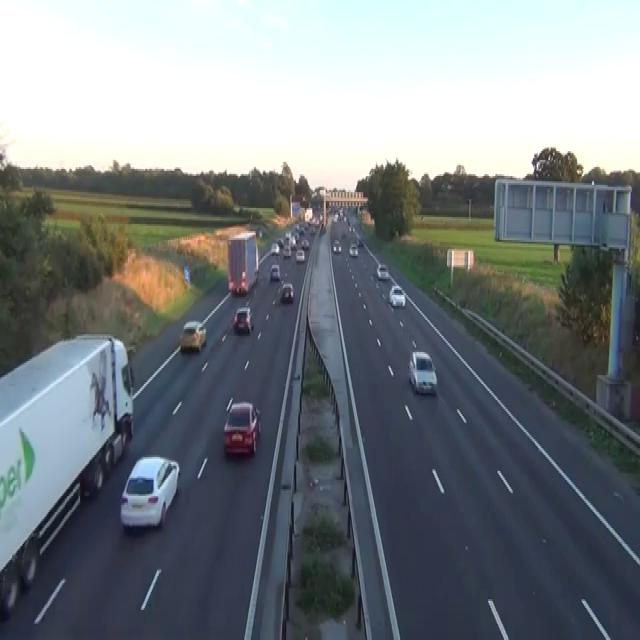Car: (119, 455, 180, 530), (223, 398, 260, 457), (408, 350, 437, 395), (179, 320, 206, 352), (233, 306, 253, 334), (389, 284, 405, 308), (278, 281, 294, 302), (376, 263, 389, 279), (270, 263, 280, 281), (332, 238, 341, 252), (349, 242, 358, 256), (296, 249, 304, 263), (270, 242, 279, 254), (283, 244, 291, 256), (301, 238, 309, 249), (290, 235, 296, 249), (277, 237, 284, 247), (320, 222, 326, 233), (356, 238, 363, 247), (254, 268, 258, 282), (340, 230, 346, 238), (350, 224, 355, 233), (309, 228, 315, 235), (258, 228, 262, 238), (333, 214, 337, 222)
Truck: (0, 332, 134, 618), (226, 229, 258, 295)
